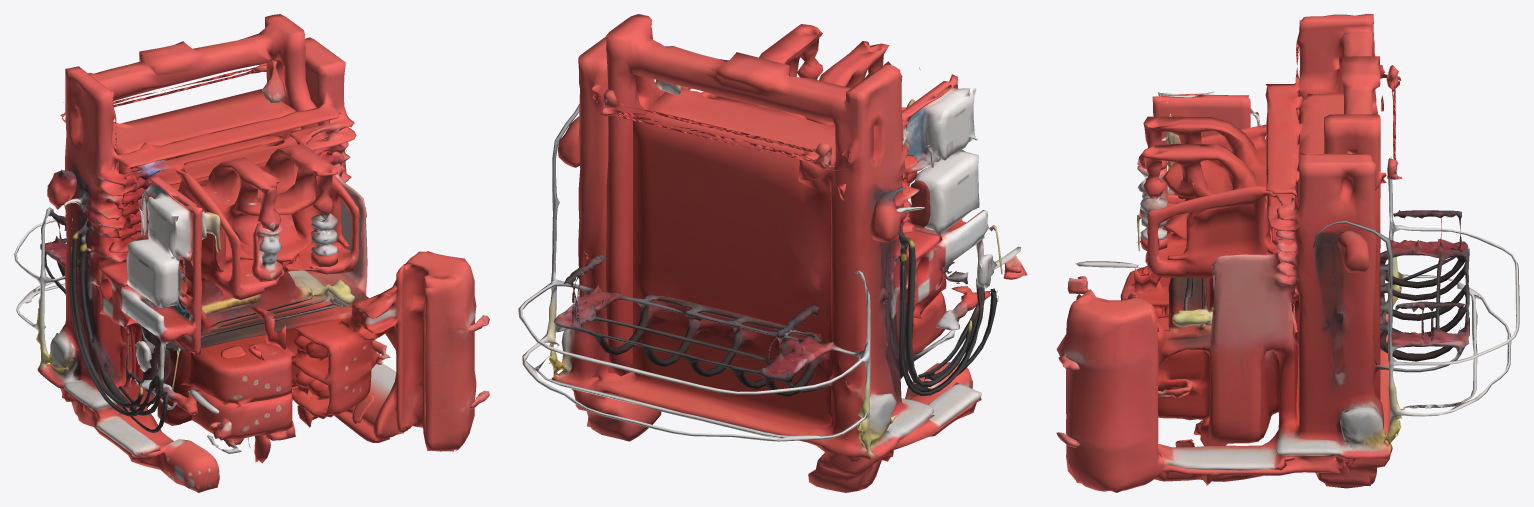
Rendered from roughneck.glb.
3 views of the same model, side by side, from view 1: azimuth 30°, elevation 25°; view 2: azimuth 150°, elevation 25°; view 3: azimuth 270°, elevation 25° (orthographic). The views are drawn at different scales.
Visible parts, largest first — view 1: model; view 2: model; view 3: model.
Boxes of the visible parts, left/top/right/bottom form: model: left=14, top=14, right=489, bottom=492; model: left=518, top=14, right=1027, bottom=492; model: left=1056, top=14, right=1519, bottom=492.
Bounding box in the file's own units: 1.47 × 1.6 × 1.88.
1 material, 1 textured.
